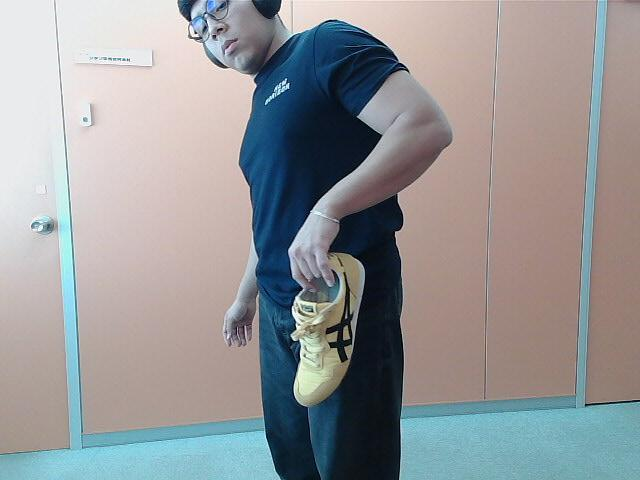Shoes: (290, 245, 362, 407)
